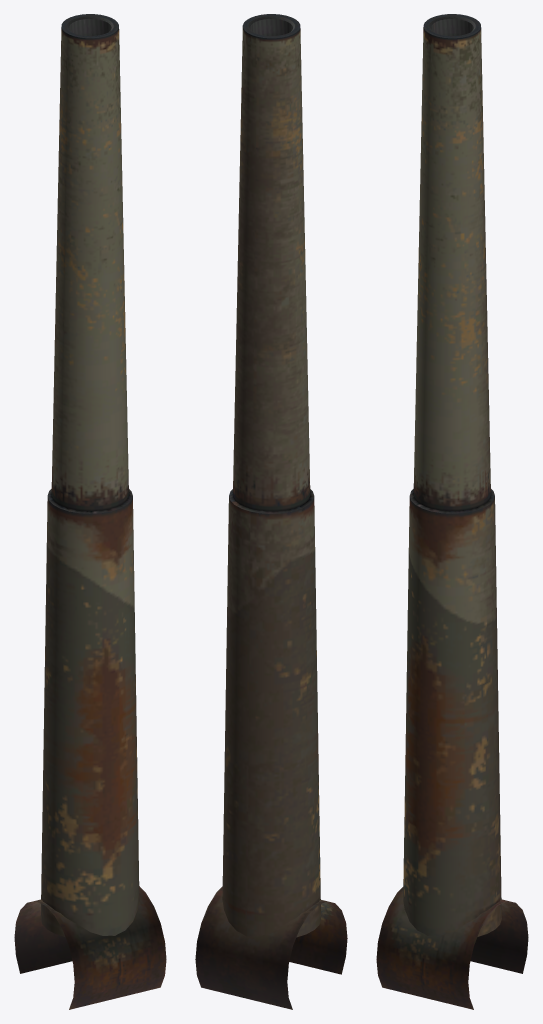
Rendered from Gun_11.glb.
3 renders of one model, left to right at view 1: azimuth 30°, elevation 25°; view 2: azimuth 150°, elevation 25°; view 3: azimuth 330°, elevation 25°, orthographic.
Parts seen in each view (by area): view 1: set_0_group_0; view 2: set_0_group_0; view 3: set_0_group_0.
Part boxes in pixels (left/top/right/bottom): set_0_group_0: left=14, top=14, right=166, bottom=1009; set_0_group_0: left=195, top=14, right=347, bottom=1009; set_0_group_0: left=376, top=14, right=528, bottom=1009.
Size of the model in its own units: 0.347 by 3.45 by 0.3938.
1 material, 1 textured.
